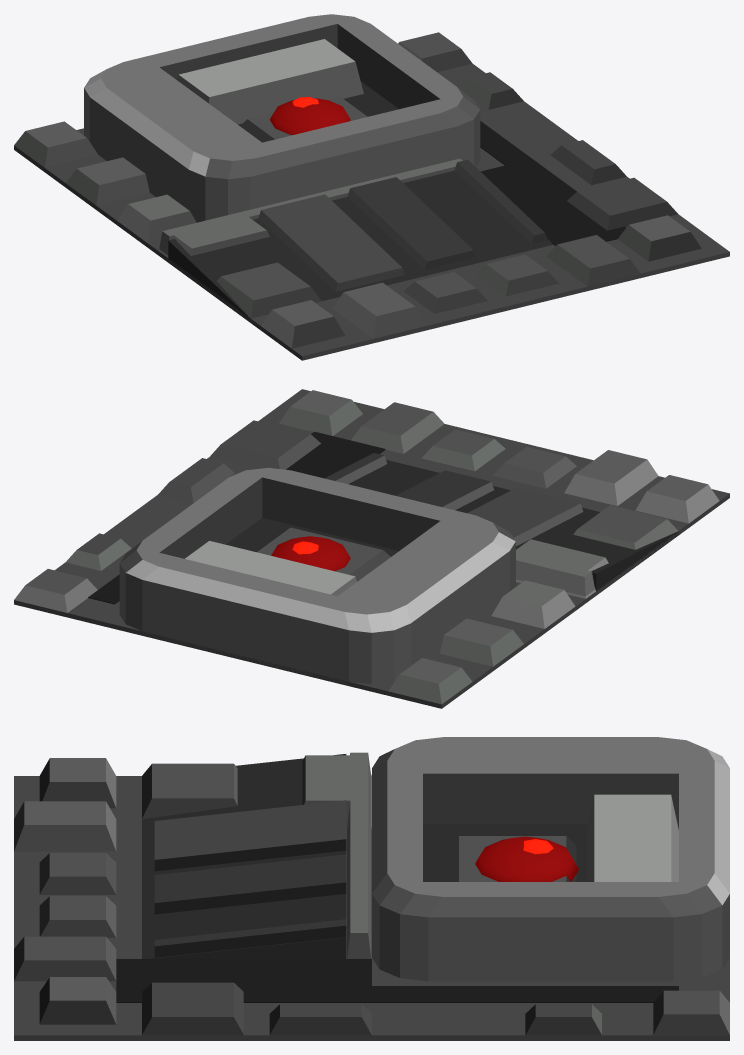
The model's file is newshp-237.glb.
3 views of the same model, one above another, from view 1: azimuth 30°, elevation 25°; view 2: azimuth 150°, elevation 25°; view 3: azimuth 270°, elevation 25° (orthographic). The views are drawn at different scales.
Parts seen in each view (by area): view 1: newshp-237, newshp-237-lens; view 2: newshp-237, newshp-237-lens; view 3: newshp-237, newshp-237-lens.
Boxes of the visible parts, x1=… form: newshp-237: x1=14, y1=14, x2=729, y2=360; newshp-237-lens: x1=240, y1=96, x2=367, y2=142; newshp-237: x1=14, y1=389, x2=729, y2=708; newshp-237-lens: x1=257, y1=527, x2=390, y2=581; newshp-237: x1=14, y1=737, x2=729, y2=1040; newshp-237-lens: x1=448, y1=836, x2=578, y2=881.
Bounding box in the file's own units: 2 × 0.3 × 2.33.
